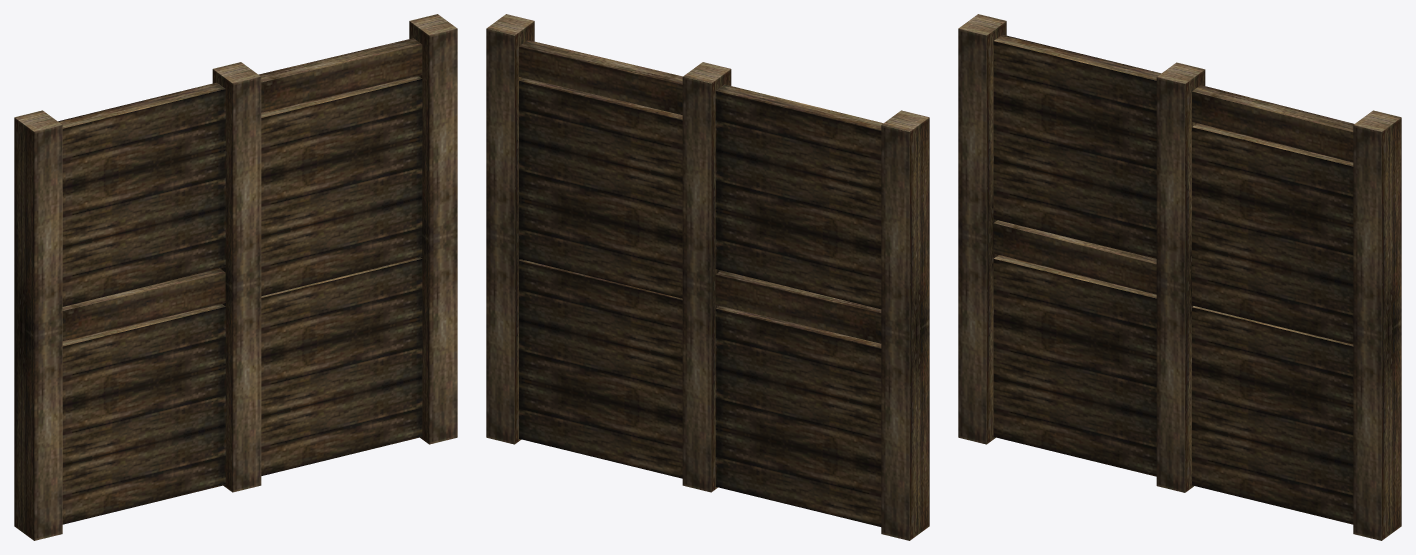
The model's file is general_obj_cliffgate_wall02.glb.
3 views of the same model, side by side, from view 1: azimuth 30°, elevation 25°; view 2: azimuth 150°, elevation 25°; view 3: azimuth 330°, elevation 25° (orthographic).
Parts seen in each view (by area): view 1: Sphere01; view 2: Sphere01; view 3: Sphere01.
Boxes of the visible parts, x1=… form: Sphere01: x1=14, y1=14, x2=457, y2=540; Sphere01: x1=486, y1=14, x2=929, y2=540; Sphere01: x1=958, y1=14, x2=1401, y2=540.
Size of the model in its own units: 8.79 by 8.11 by 0.7212.
1 material, 1 textured.
